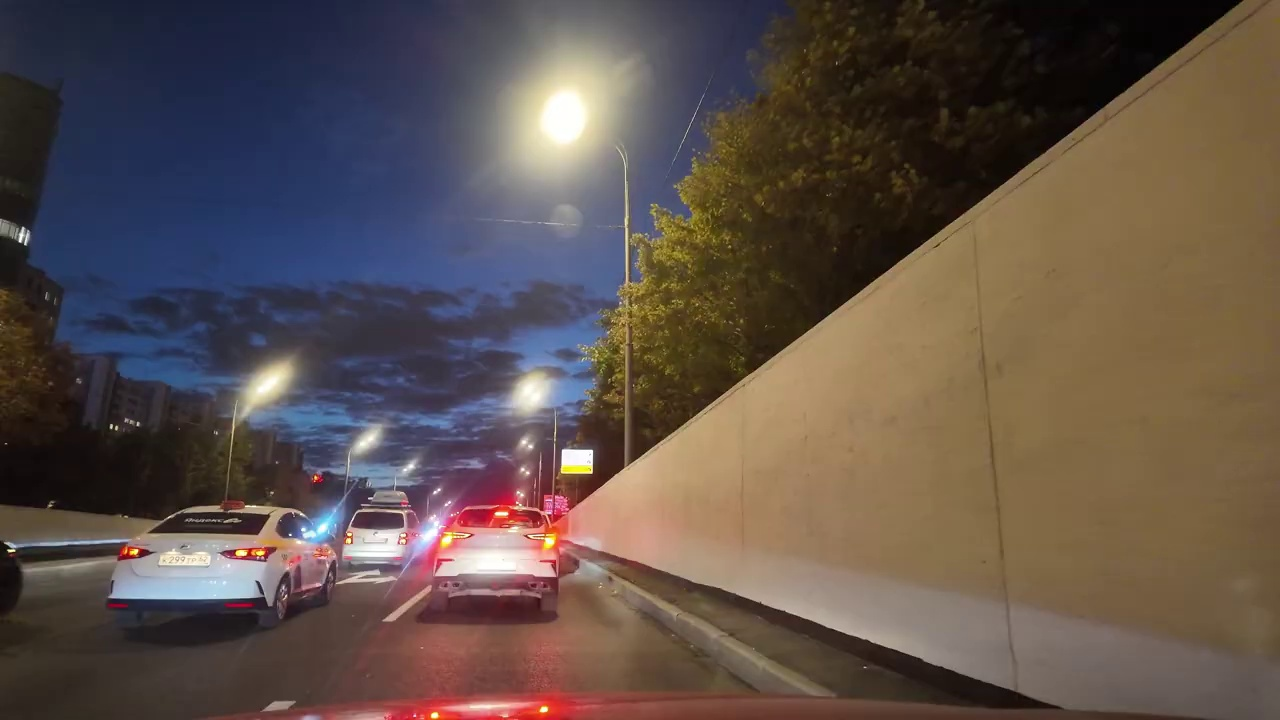acesa: (535, 83, 599, 153), (244, 358, 295, 409), (509, 375, 548, 417), (350, 426, 383, 458)
